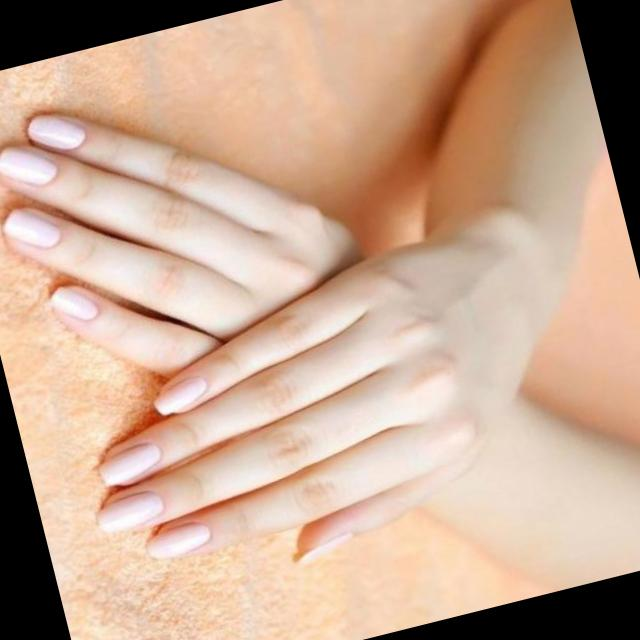Nail: (95, 492, 162, 532), (98, 442, 160, 485), (145, 522, 210, 558), (2, 210, 60, 249), (0, 147, 56, 186), (153, 376, 207, 415), (27, 115, 85, 150), (293, 533, 352, 565), (50, 287, 97, 321)
